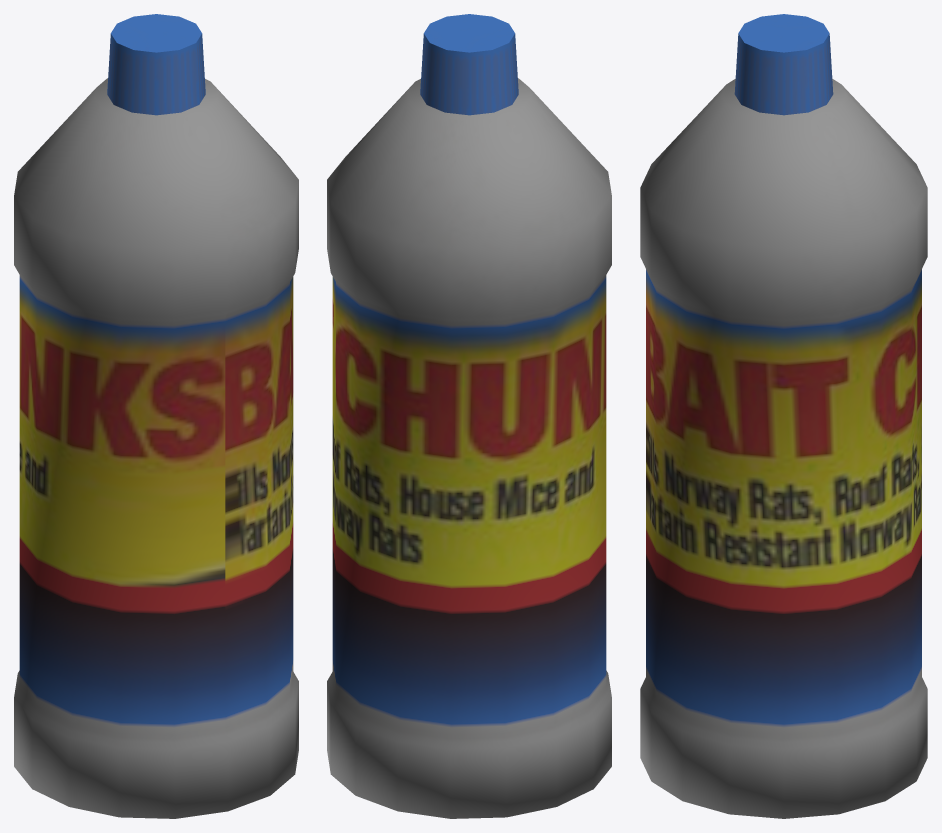
The model's file is SM_BottlePlasticC_02.fbx.
3 renders of one model, left to right at view 1: azimuth 30°, elevation 25°; view 2: azimuth 150°, elevation 25°; view 3: azimuth 270°, elevation 25°, orthographic.
Visible parts, largest first — view 1: SM_BottlePlasticC_02; view 2: SM_BottlePlasticC_02; view 3: SM_BottlePlasticC_02.
Part boxes in pixels (x1,y1,x2,y2): SM_BottlePlasticC_02: [14, 14, 298, 818]; SM_BottlePlasticC_02: [327, 14, 611, 818]; SM_BottlePlasticC_02: [640, 14, 927, 818].
Bounding box in the file's own units: 9.73 × 27.13 × 9.73.
